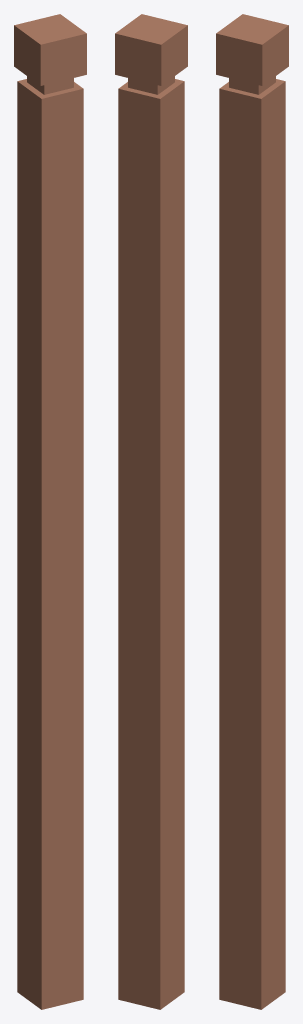
File: Fence_Tall_A_End.fbx
3 views of the same model, side by side, from view 1: azimuth 30°, elevation 25°; view 2: azimuth 150°, elevation 25°; view 3: azimuth 330°, elevation 25° (orthographic).
Visible parts, largest first — view 1: Fence_Tall_A_End; view 2: Fence_Tall_A_End; view 3: Fence_Tall_A_End.
Boxes of the visible parts, x1,y1,x2,y2 form: Fence_Tall_A_End: [14, 14, 86, 1009]; Fence_Tall_A_End: [115, 14, 187, 1009]; Fence_Tall_A_End: [216, 14, 288, 1009].
Bounding box in the file's own units: 10 × 200 × 10.
